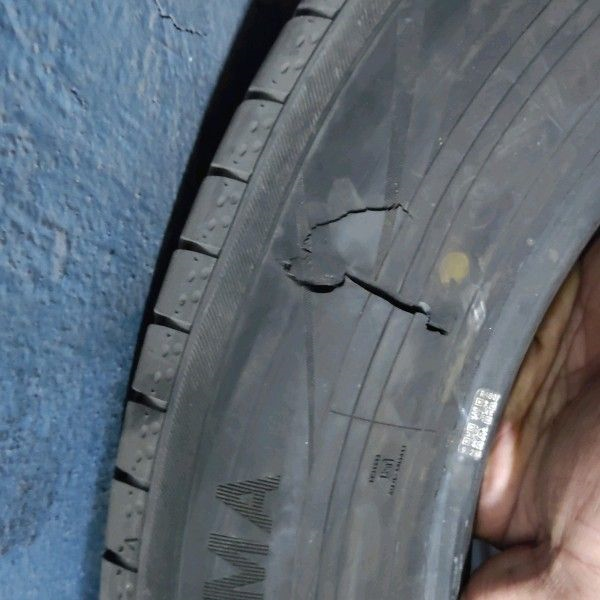cut: (286, 202, 451, 341)
